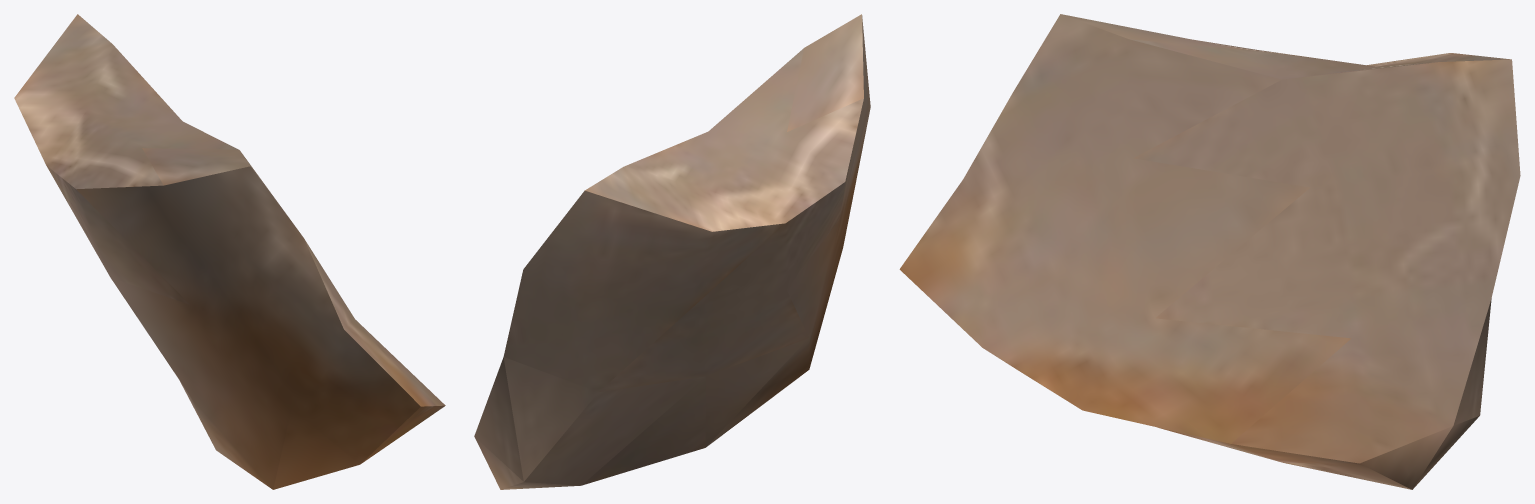
Rendered from cascote_1.glb.
3 renders of one model, left to right at view 1: azimuth 30°, elevation 25°; view 2: azimuth 150°, elevation 25°; view 3: azimuth 270°, elevation 25°, orthographic. The views are drawn at different scales.
Parts seen in each view (by area): view 1: cascote_1_malla; view 2: cascote_1_malla; view 3: cascote_1_malla.
Part boxes in pixels (left/top/right/bottom): cascote_1_malla: left=14, top=14, right=445, bottom=489; cascote_1_malla: left=474, top=14, right=870, bottom=489; cascote_1_malla: left=899, top=14, right=1520, bottom=489.
Size of the model in its own units: 0.0769 by 0.1 by 0.1454.
1 material, 1 textured.
